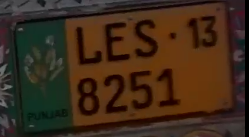LES8251: (3, 3, 242, 133)
